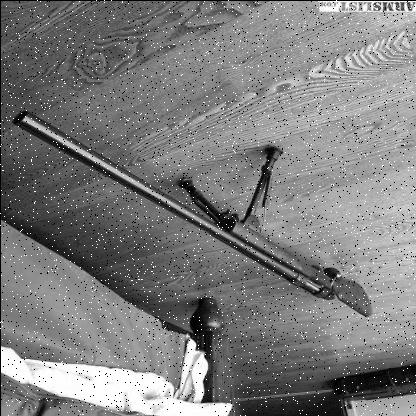rifle: (13, 81, 391, 320)
